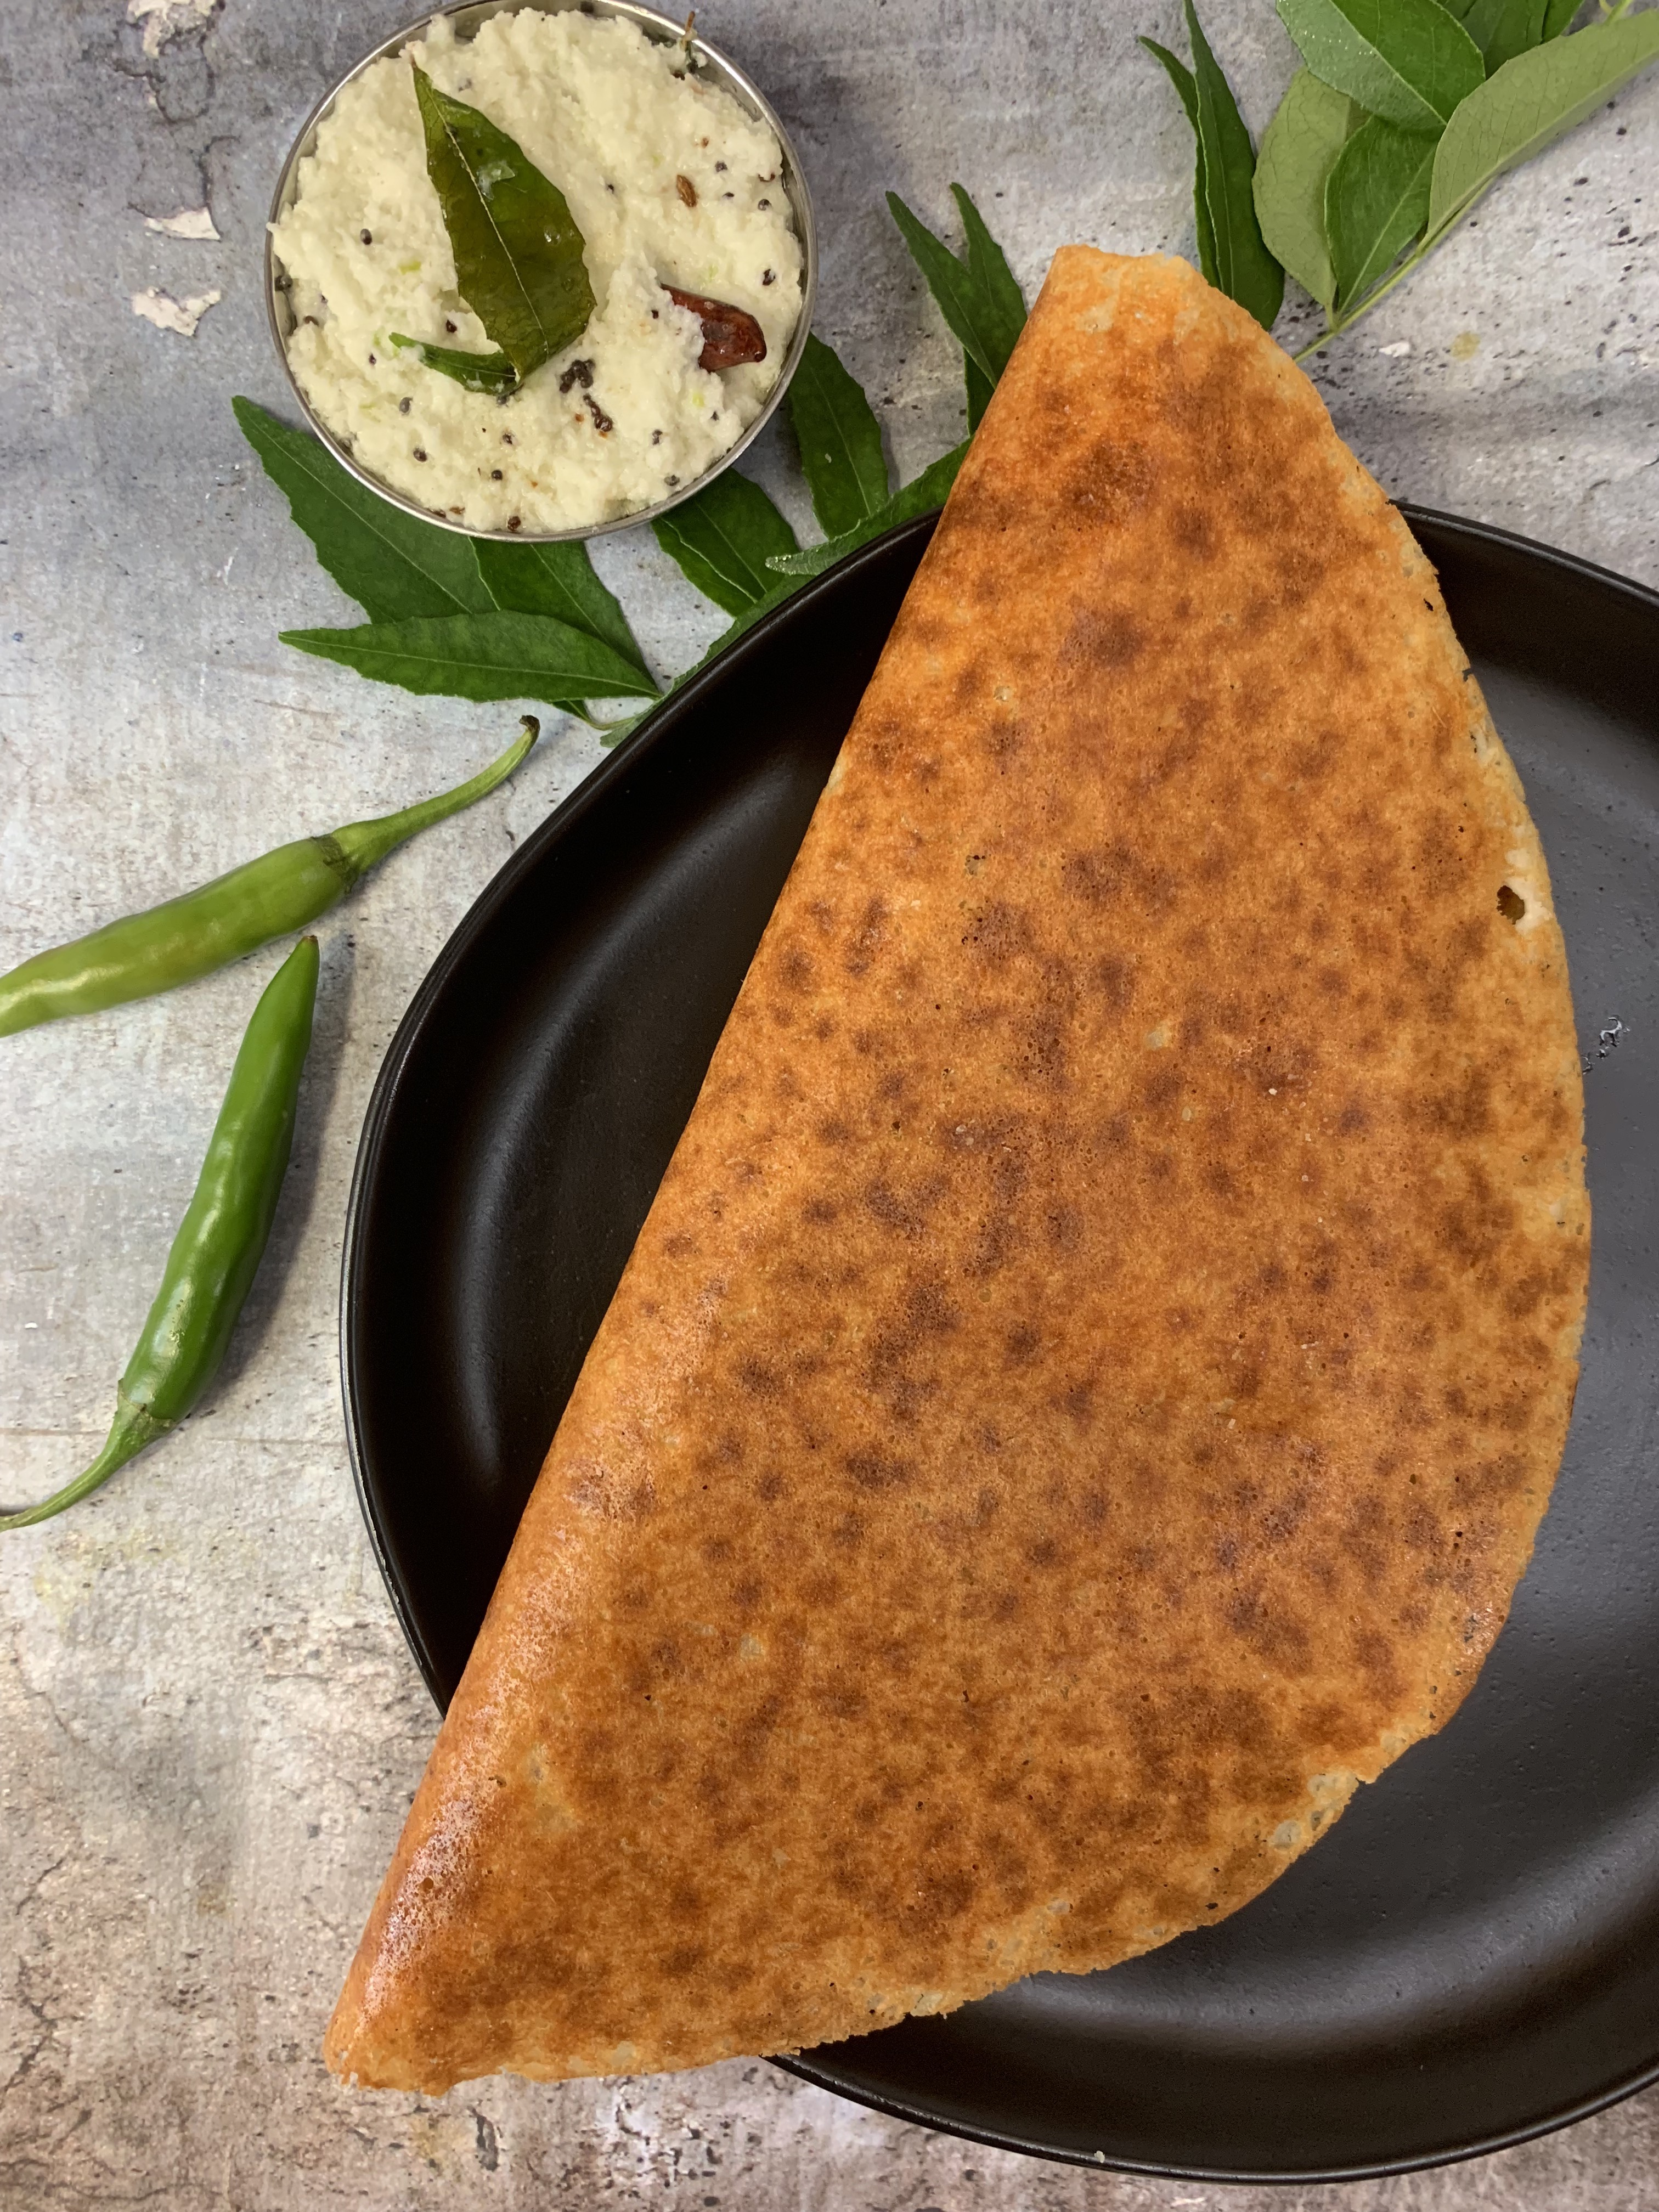dosa: (254, 174, 1659, 2155)
